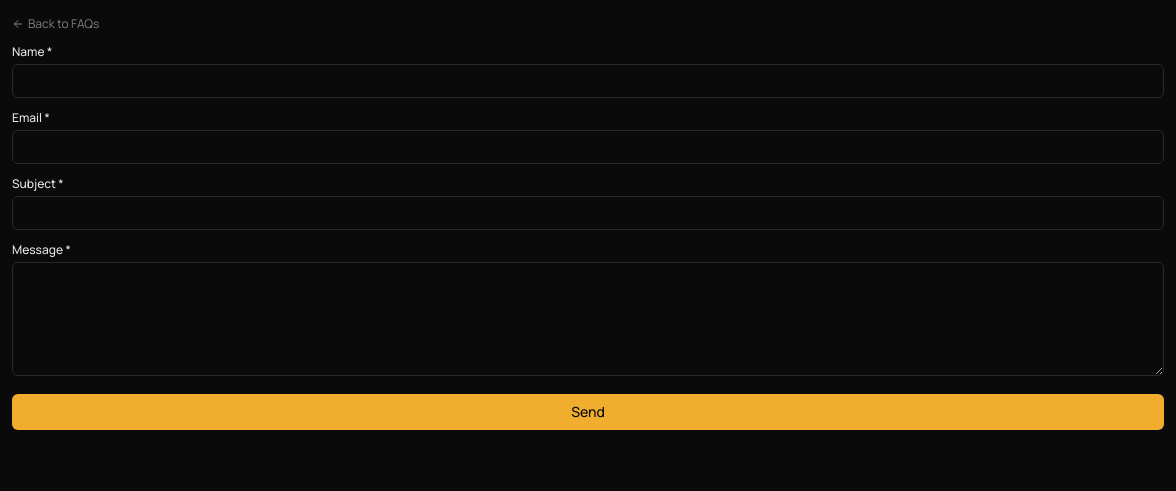
Test: ContactForm › generic error on 500
The image size is (1176, 491).
Type "Sat" into the field labelled "Name *" at (588, 81), box [12,64,1164,98]
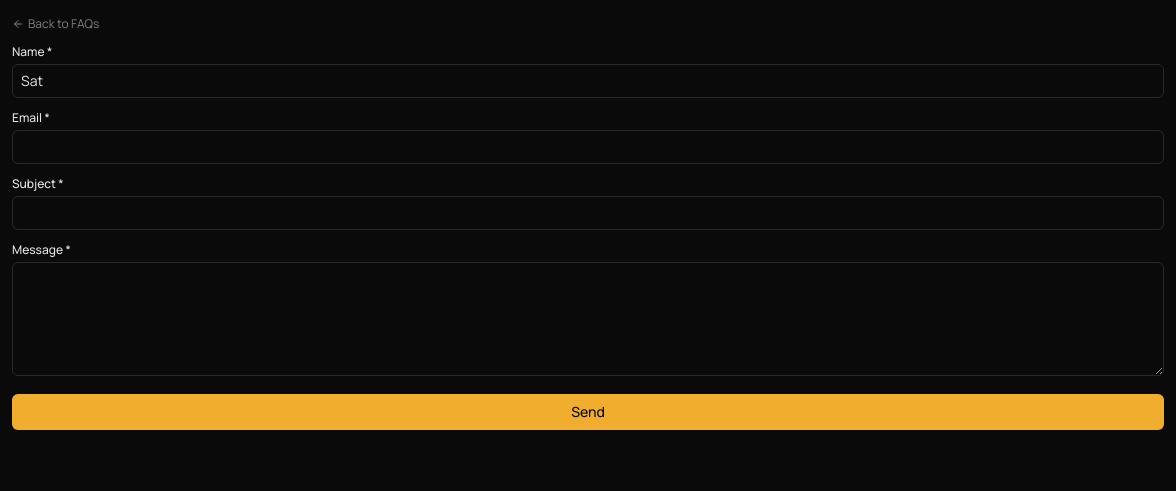
Type "sat@example.com" into the field labelled "Email *" at (588, 147), box [12,130,1164,164]
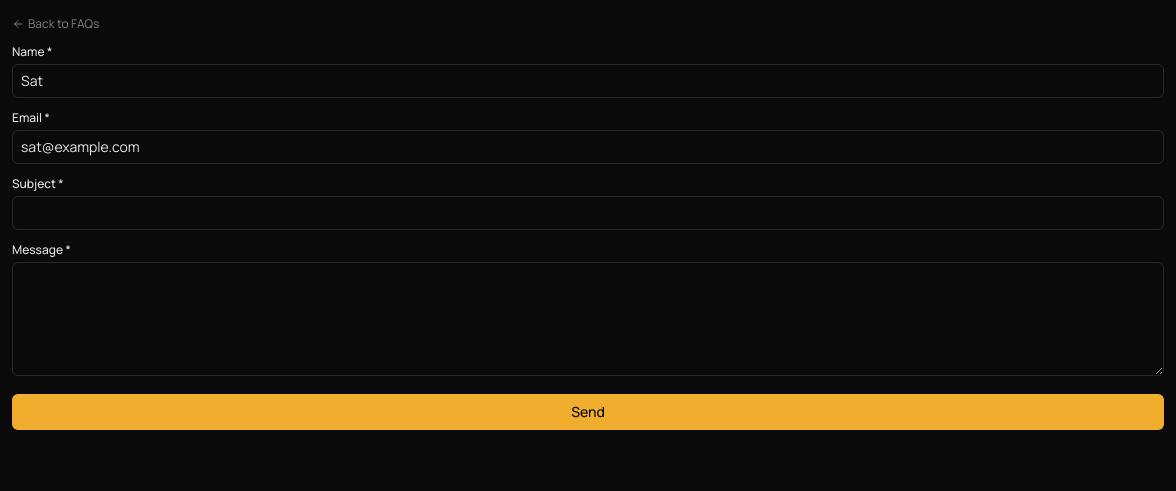
Type "Order Q" into the field labelled "Subject *" at (588, 213), box [12,196,1164,230]
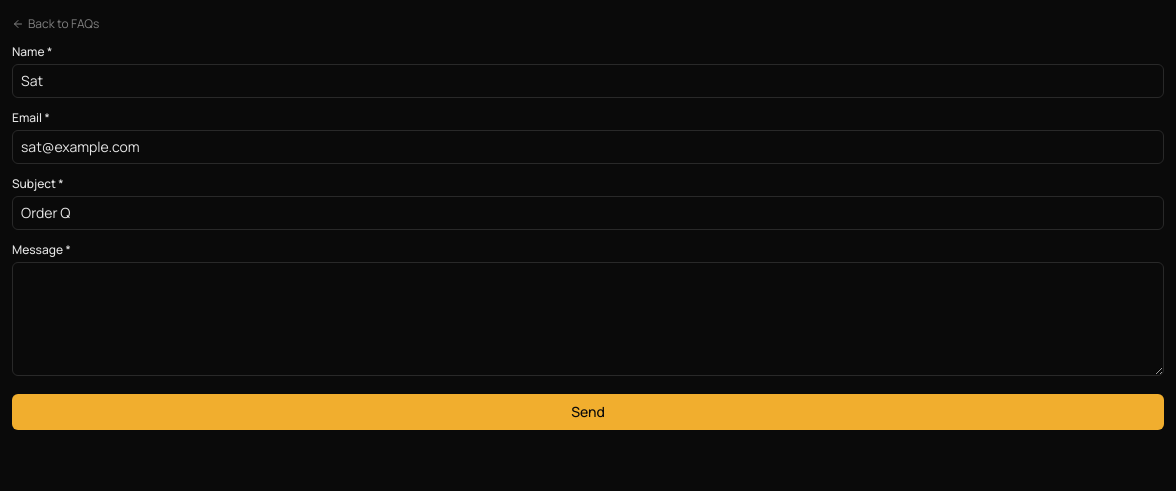
Type "Where is it?" into the text box labelled "Message *" at (588, 319), box [12,262,1164,376]
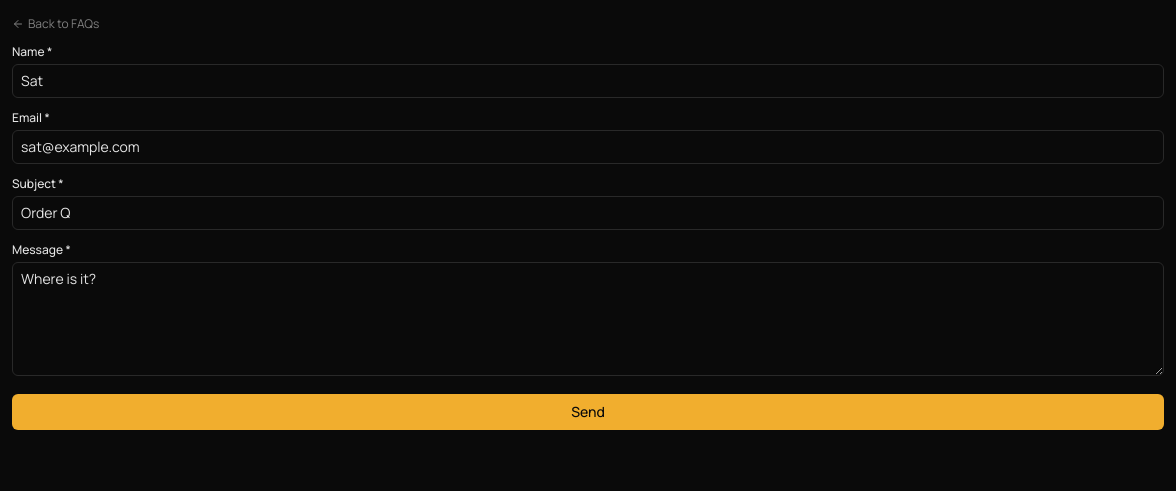
Click the button "Send" at (588, 412), box [12,394,1164,430]
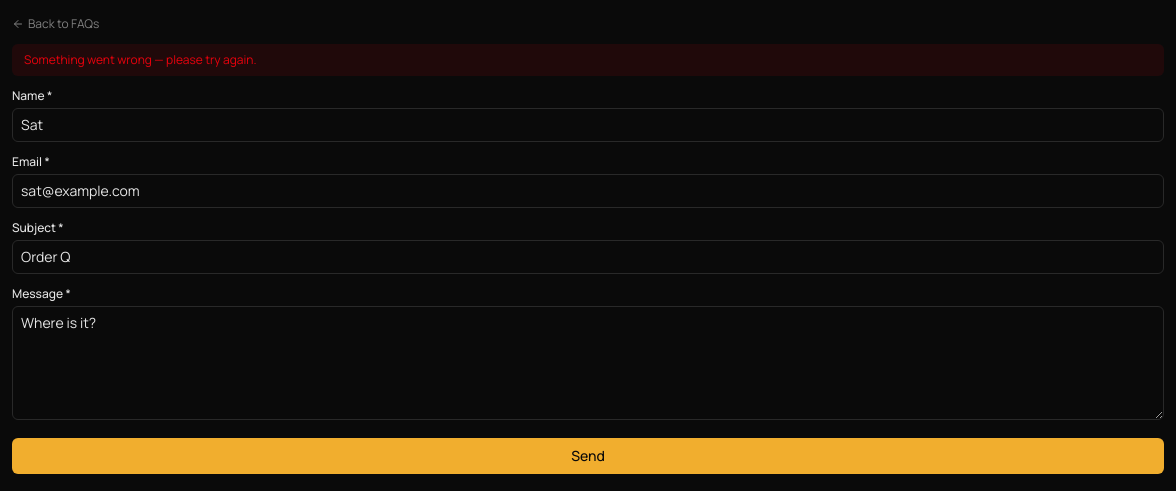
Check: the text "Something went wrong — please try again." is shown, box [12,44,1164,76]
